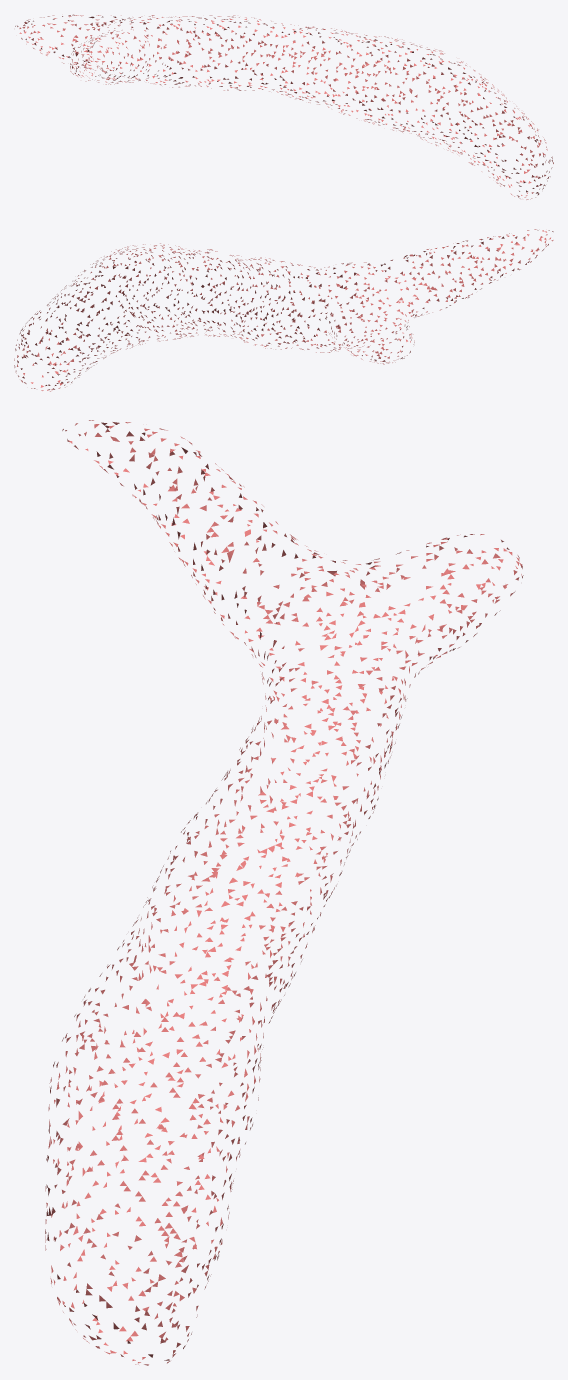
Rendered from morph_000.glb.
3 renders of one model, top to bottom at view 1: azimuth 30°, elevation 25°; view 2: azimuth 150°, elevation 25°; view 3: azimuth 270°, elevation 25°, orthographic. The views are drawn at different scales.
Bounding box in the file's own units: 109 × 54.97 × 47.12.
